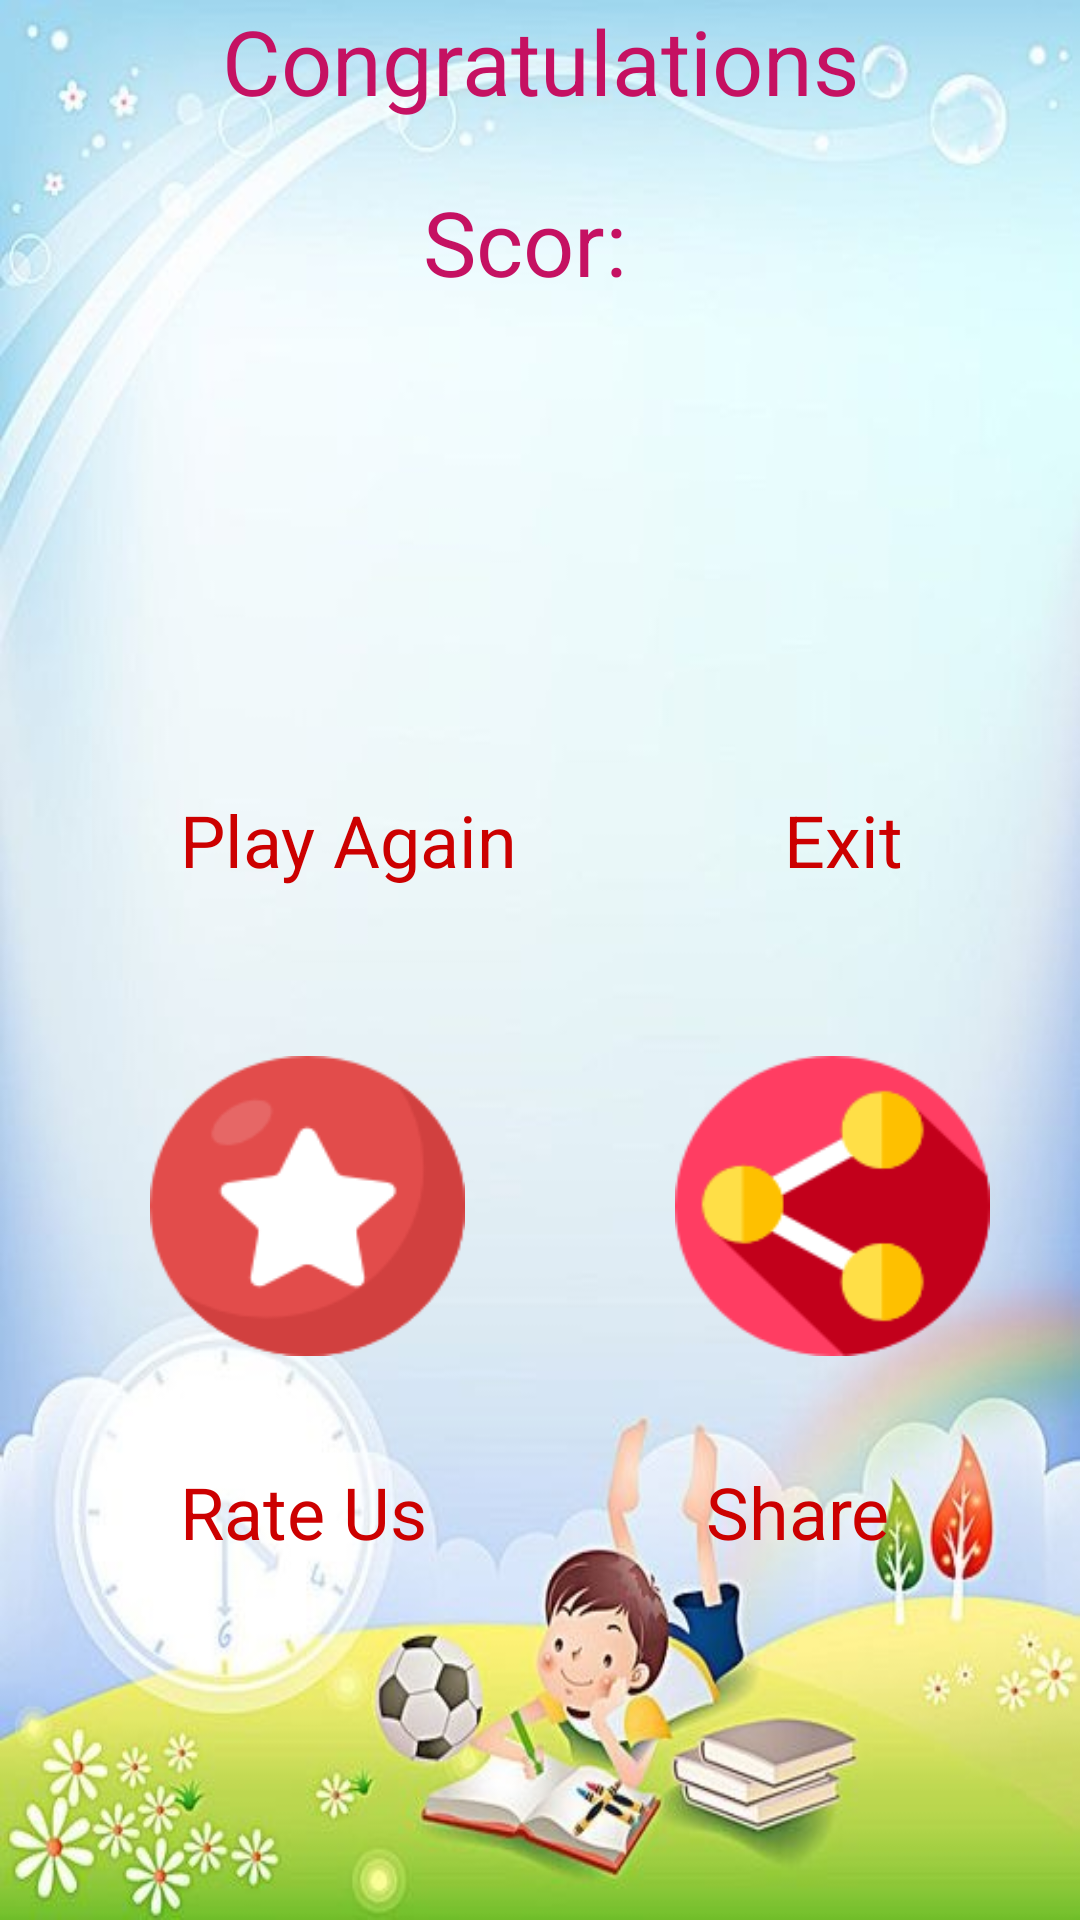

Where icons sit on this 1080×1920 app screen, as (x1, y1, x2, y2):
ratec: (150, 1056, 465, 1356)
